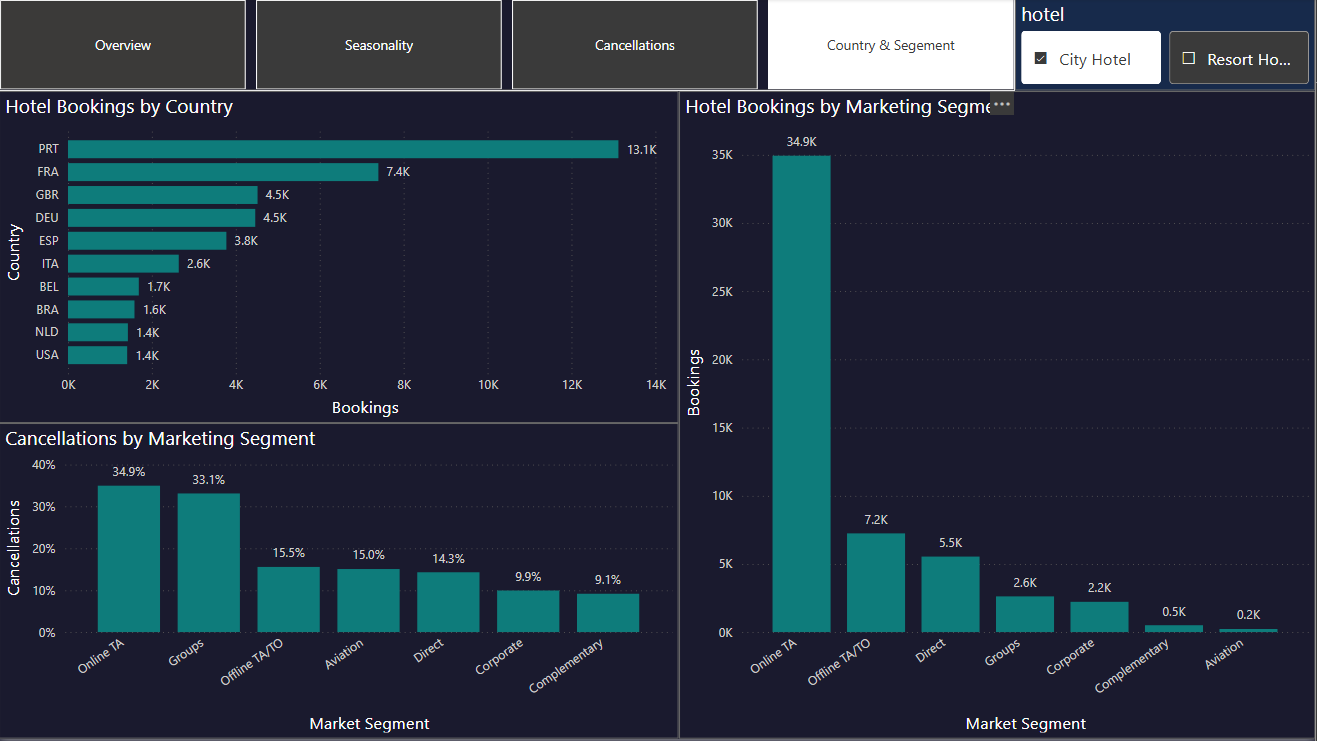

This screenshot's page, from the dashboard's own definition file:
{"tool":"powerbi","page":{"name":"Country & Segement","canvas":[1280,720],"ordinal":3},"visuals":[{"type":"clusteredBarChart","title":"Hotel Bookings by Country","fields":{"Y":["CountNonNull(Sheet1.hotel)"],"Category":["Sheet1.country"]},"box":[0,89.5,661.4,322.9],"z":0},{"type":"clusteredColumnChart","title":"Hotel Bookings by Marketing Segment","fields":{"Y":["CountNonNull(Sheet1.hotel)"],"Category":["Sheet1.market_segment"]},"box":[661.4,89.5,618.6,630.3],"z":1000},{"type":"clusteredColumnChart","title":"Cancellations by Marketing Segment","fields":{"Category":["Sheet1.market_segment"],"Y":["Sheet1.True Cancellation"]},"box":[0,412.4,661.4,307.4],"z":2000},{"type":"advancedSlicerVisual","fields":{"Values":["Sheet1.hotel"]},"box":[987.9,0,292.1,89.1],"z":3000},{"type":"pageNavigator","box":[0,0,988.2,89.5],"z":4000}]}

Visuals, with their boxes in screenshot pixels (x1, y1, x2, y2), scaled from the page's 1280x720 canvas onto the 1317x741 screenshot:
"Hotel Bookings by Country" clusteredBarChart: pyautogui.locateOnScreen(0, 92, 681, 424)
"Hotel Bookings by Marketing Segment" clusteredColumnChart: pyautogui.locateOnScreen(681, 92, 1316, 740)
"Cancellations by Marketing Segment" clusteredColumnChart: pyautogui.locateOnScreen(0, 424, 681, 740)
advancedSlicerVisual - Sheet1.hotel: pyautogui.locateOnScreen(1016, 0, 1316, 92)
pageNavigator: pyautogui.locateOnScreen(0, 0, 1017, 92)
